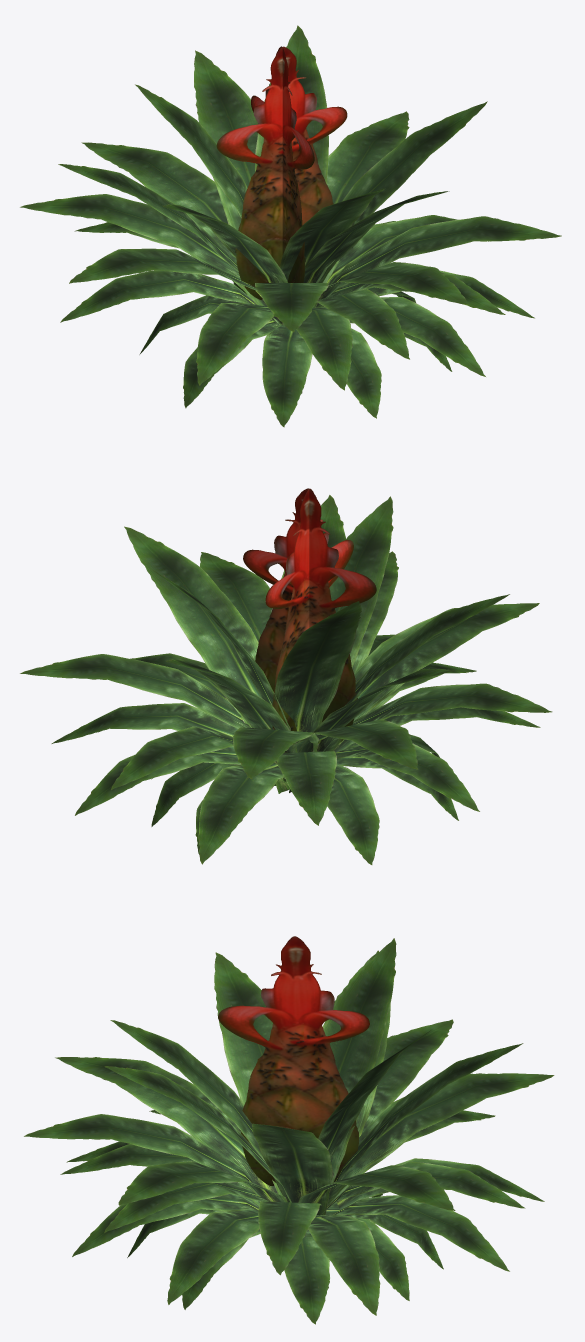
The model's file is plant11.FBX.
The picture shows the model from 3 angles, top to bottom: view 1: azimuth 30°, elevation 25°; view 2: azimuth 150°, elevation 25°; view 3: azimuth 270°, elevation 25°; orthographic projection. The views are drawn at different scales.
Parts seen in each view (by area): view 1: plant11; view 2: plant11; view 3: plant11.
Boxes of the visible parts, x1,y1,x2,y2 form: plant11: (20,25,561,427); plant11: (20,488,552,864); plant11: (24,936,554,1324).
Size of the model in its own units: 24.54 by 25.68 by 16.26.
